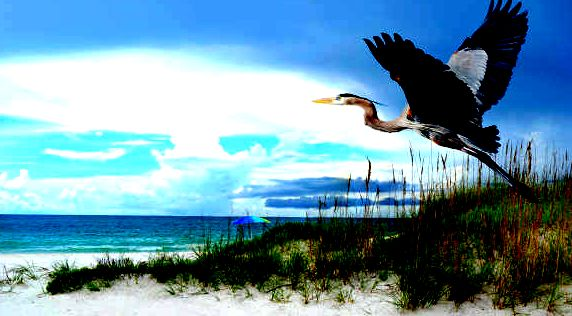Bird: (310, 0, 526, 190)
